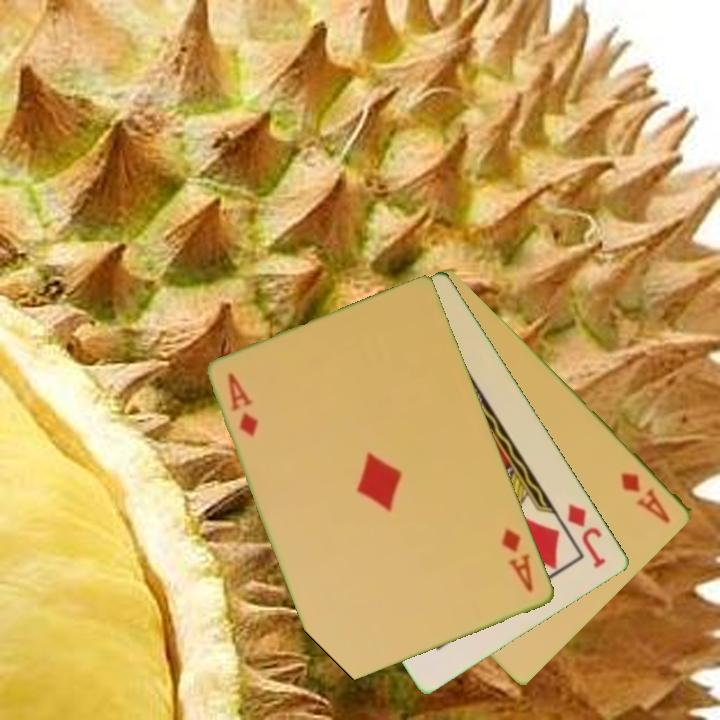Ad: (617, 469, 674, 527), (498, 525, 537, 596), (225, 369, 262, 441)
Jd: (564, 499, 610, 572)
